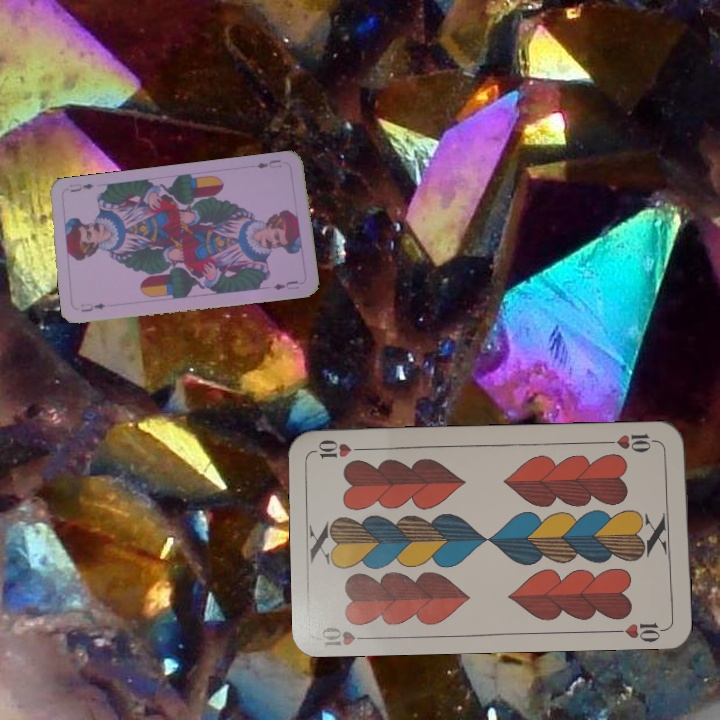EU: (77, 299, 108, 315), (252, 156, 284, 171)
H10: (602, 429, 661, 455), (318, 622, 376, 648)
